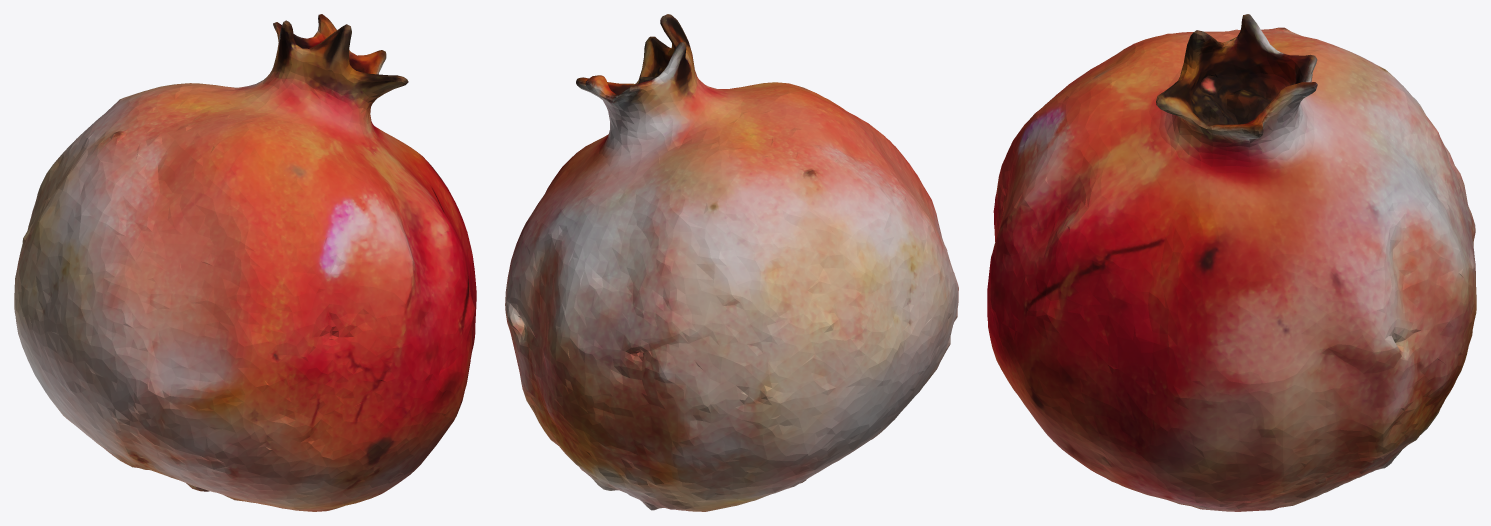
3 views of the same model, side by side, from view 1: azimuth 30°, elevation 25°; view 2: azimuth 150°, elevation 25°; view 3: azimuth 270°, elevation 25° (orthographic). The views are drawn at different scales.
Parts seen in each view (by area): view 1: world; view 2: world; view 3: world.
Boxes of the visible parts, x1,y1,x2,y2 form: world: (14, 14, 476, 511); world: (505, 14, 958, 511); world: (987, 14, 1476, 511).
Bounding box in the file's own units: 0.6944 × 0.7573 × 0.6864.
1 material, 1 textured.
